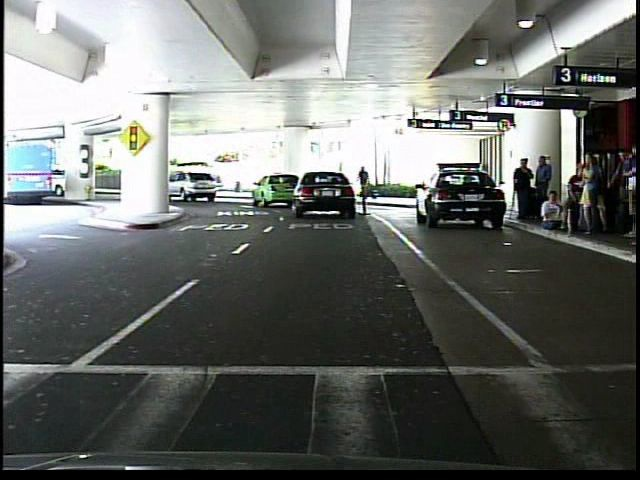person: (512, 154, 535, 221), (532, 153, 554, 223), (358, 164, 373, 205)
